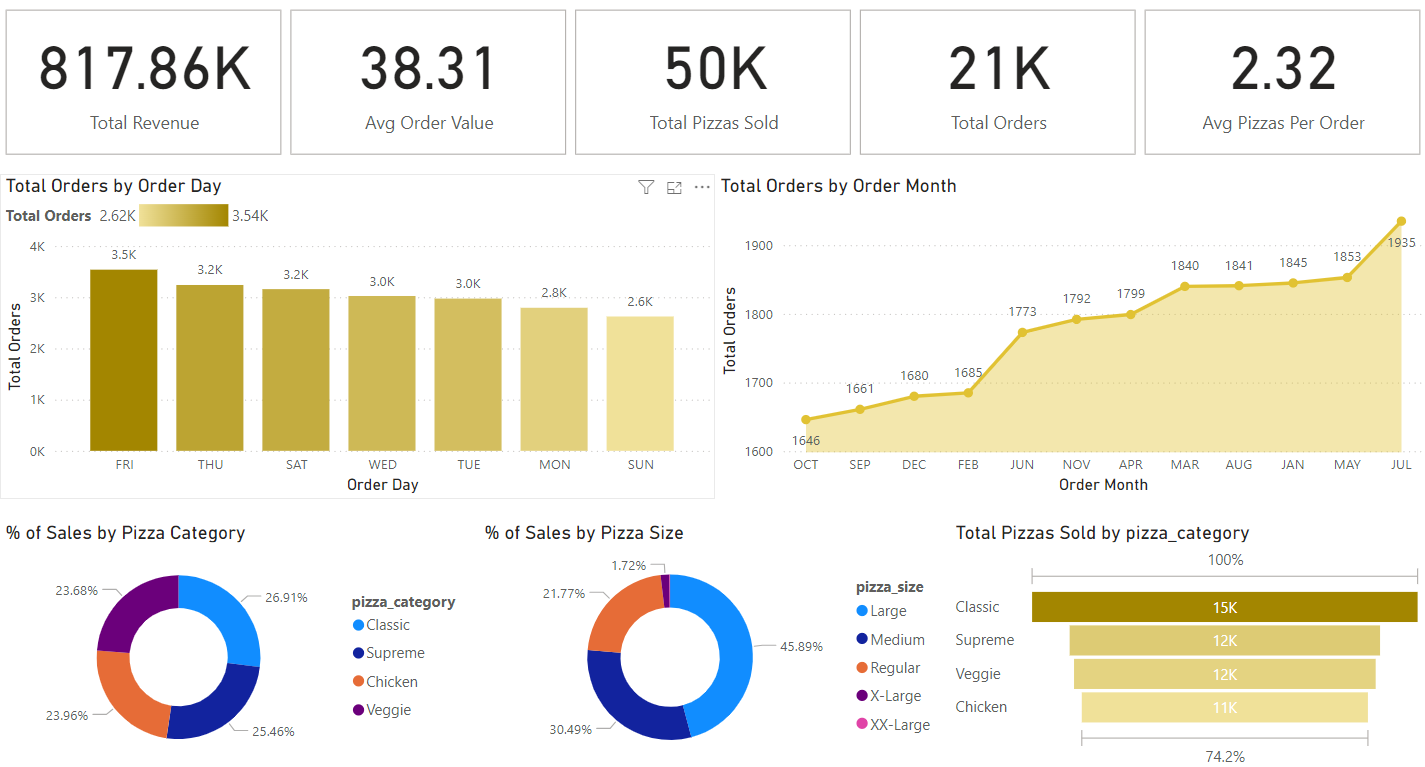

This screenshot's page, from the dashboard's own definition file:
{"tool":"powerbi","page":{"name":"Page 1","canvas":[1280,720],"ordinal":0},"visuals":[{"type":"cardVisual","fields":{"Data":["pizza_sales.Total Revenue","pizza_sales.Avg Order Value","pizza_sales.Total Pizzas Sold","pizza_sales.Total Orders","pizza_sales.Avg Pizzas Per Order"]},"box":[0,32.4,1279.8,140.8],"z":0},{"type":"columnChart","fields":{"Category":["pizza_sales.Order Day"],"Y":["pizza_sales.Total Orders"]},"box":[0,184.4,640.7,291.2],"z":1000},{"type":"areaChart","fields":{"Category":["pizza_sales.Order Month"],"Y":["pizza_sales.Total Orders"]},"box":[640.7,184.4,639.1,291.2],"z":2000},{"type":"donutChart","title":"% of Sales by Pizza Category","fields":{"Category":["pizza_sales.pizza_category"],"Y":["pizza_sales.Total Revenue"]},"box":[0,495.1,428.8,224.9],"z":3000},{"type":"donutChart","title":"% of Sales by Pizza Size","fields":{"Category":["pizza_sales.pizza_size"],"Y":["pizza_sales.Total Revenue"]},"box":[428.8,495.1,422.3,224.9],"z":4000},{"type":"funnel","fields":{"Category":["pizza_sales.pizza_category"],"Y":["pizza_sales.Total Pizzas Sold"]},"box":[851.1,495.1,428.8,224.9],"z":5000}]}

Visuals, with their boxes on the page's 1280x720 design canvas (x1, y1, x2, y2). These are canvas units, not pixel positions in the 1425x767 screenshot, which may show the page scaled, cropped or inside an application window:
cardVisual - pizza_sales.Total Revenue x pizza_sales.Avg Order Value: [x1=0, y1=32, x2=1280, y2=173]
columnChart - pizza_sales.Order Day x pizza_sales.Total Orders: [x1=0, y1=184, x2=641, y2=476]
areaChart - pizza_sales.Order Month x pizza_sales.Total Orders: [x1=641, y1=184, x2=1280, y2=476]
"% of Sales by Pizza Category" donutChart: [x1=0, y1=495, x2=429, y2=720]
"% of Sales by Pizza Size" donutChart: [x1=429, y1=495, x2=851, y2=720]
funnel - pizza_sales.pizza_category x pizza_sales.Total Pizzas Sold: [x1=851, y1=495, x2=1280, y2=720]
